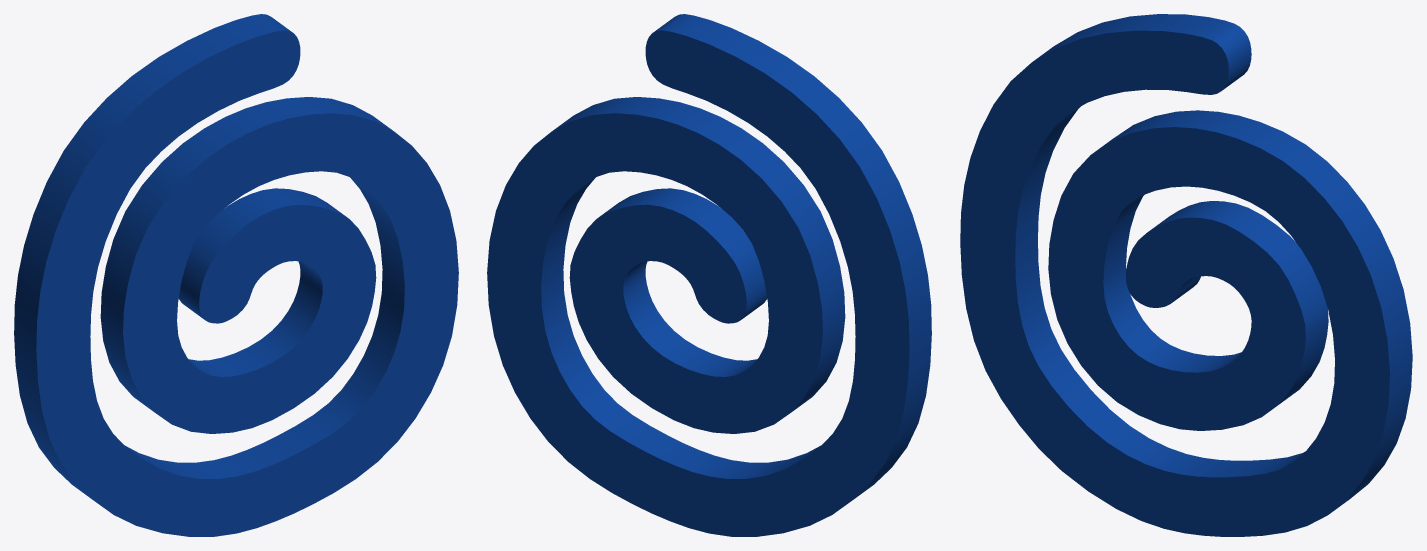
The model's file is cyclone.glb.
3 views of the same model, side by side, from view 1: azimuth 30°, elevation 25°; view 2: azimuth 150°, elevation 25°; view 3: azimuth 330°, elevation 25° (orthographic).
Parts seen in each view (by area): view 1: Plane.298; view 2: Plane.298; view 3: Plane.298.
Boxes of the visible parts, box(x1,y1,x2,y2) form: Plane.298: box(14, 14, 458, 536); Plane.298: box(487, 14, 931, 536); Plane.298: box(960, 14, 1412, 536).
Size of the model in its own units: 1.91 by 2.13 by 0.1751.
Materials: 1 (1 with a texture image).
